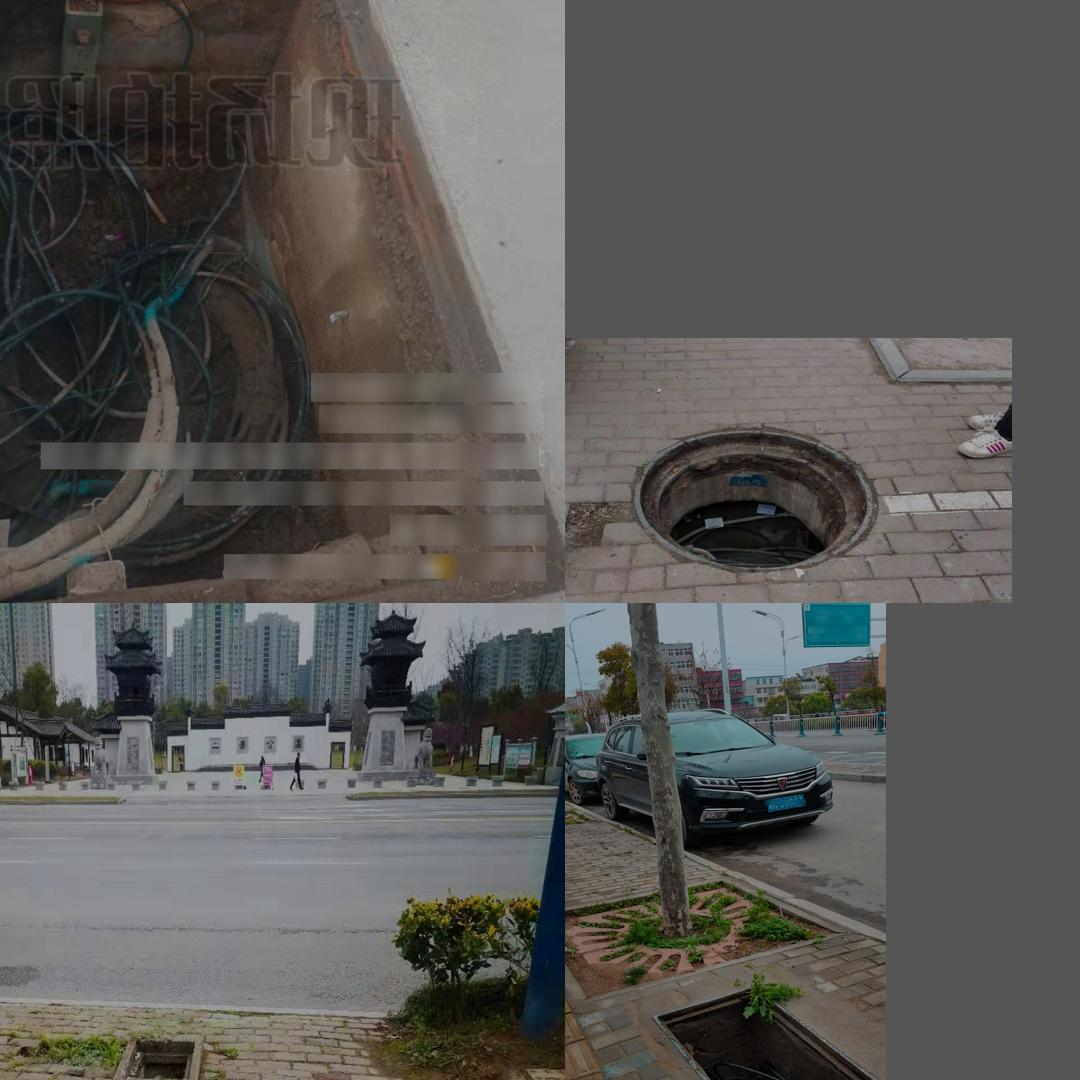lose: (0, 0, 557, 600), (632, 422, 881, 577), (652, 990, 886, 1080), (111, 1031, 202, 1080)
